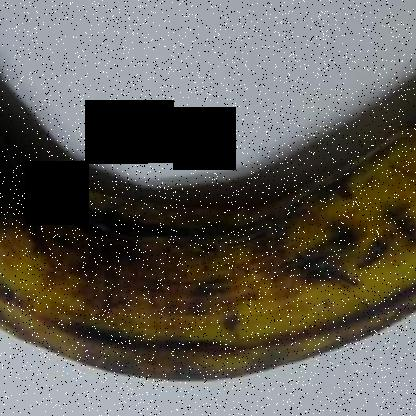overripe: (0, 58, 415, 404)
